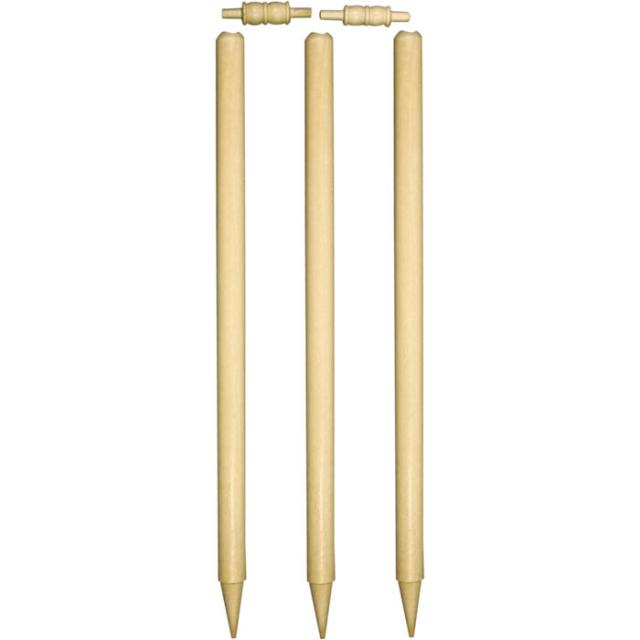stump: (209, 0, 429, 639)
